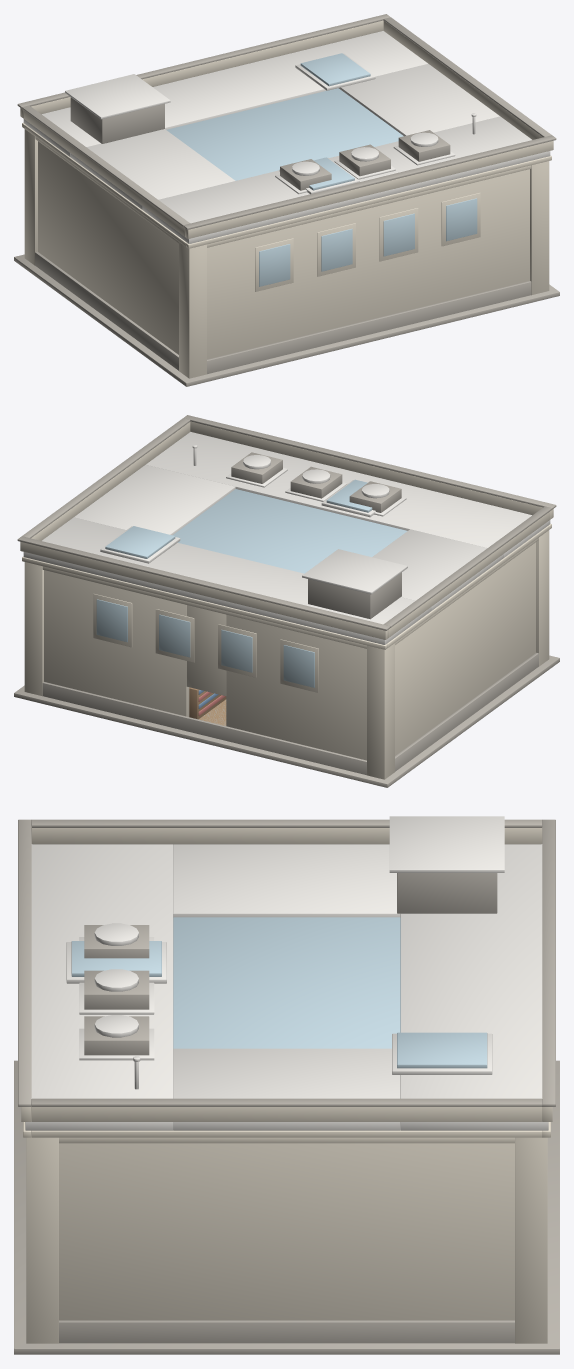
The model's file is th10_bibliothek.glb.
3 renders of one model, top to bottom at view 1: azimuth 30°, elevation 25°; view 2: azimuth 150°, elevation 25°; view 3: azimuth 270°, elevation 25°, orthographic. The views are drawn at different scales.
Parts seen in each view (by area): view 1: Cube.005, Cube.006, Cube.032, Cube.029, Cube.028, Cube.031, Cube.030, Cube, Cube.383, Cube.395, Cube.379, Cube.396 (+28 smaller); view 2: Cube.006, Cube.003, Cube.002, Cube.028, Cube.032, Cube.029, Cube.031, Cube, Cube.384, Cube.030, Cube.395, Cube.396 (+31 smaller); view 3: Cube.007, Cube.032, Cube.029, Cube.028, Cube.030, Cube.031, Cube, Cube.386, Cube.398, Cube.381, Cube.382, Cube.397 (+19 smaller).
Part boxes in pixels (box(x1,y1,x2,y2)): Cube.005: box(207, 169, 529, 359); Cube.006: box(38, 141, 178, 354); Cube.032: box(166, 88, 403, 180); Cube.029: box(23, 31, 427, 156); Cube.028: box(142, 116, 550, 243); Cube.031: box(338, 63, 499, 136); Cube.030: box(70, 129, 235, 209); Cube: box(14, 254, 559, 386); Cube.383: box(207, 281, 531, 374); Cube.395: box(185, 140, 553, 238); Cube.379: box(179, 242, 206, 378); Cube.396: box(20, 20, 383, 118); Cube.006: box(395, 542, 535, 755); Cube.003: box(44, 570, 189, 716); Cube.002: box(226, 614, 366, 760); Cube.028: box(146, 432, 550, 557); Cube.032: box(173, 489, 407, 573); Cube.029: box(23, 517, 431, 644); Cube.031: box(74, 464, 235, 535); Cube: box(14, 655, 559, 787); Cube.384: box(42, 682, 366, 775); Cube.030: box(372, 529, 503, 610); Cube.395: box(190, 421, 553, 519); Cube.396: box(20, 541, 388, 639); Cube.007: box(59, 1143, 514, 1320); Cube.032: box(173, 917, 400, 1048); Cube.029: box(400, 844, 548, 1130); Cube.028: box(25, 844, 173, 1130); Cube.030: box(173, 844, 400, 917); Cube.031: box(173, 1048, 400, 1130); Cube: box(14, 1060, 559, 1354); Cube.386: box(59, 1320, 514, 1343); Cube.398: box(31, 1107, 542, 1121); Cube.381: box(26, 1137, 58, 1343); Cube.382: box(515, 1137, 547, 1343); Cube.397: box(31, 828, 542, 844).
Size of the model in its own units: 30 by 13.4 by 24.
